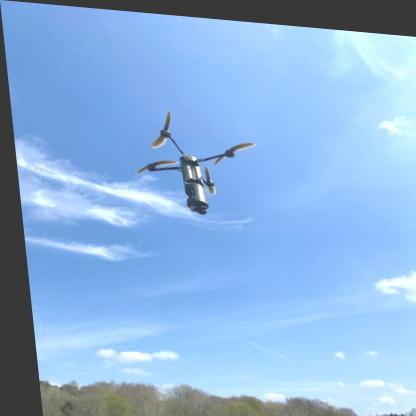UAS: (127, 102, 261, 216)
